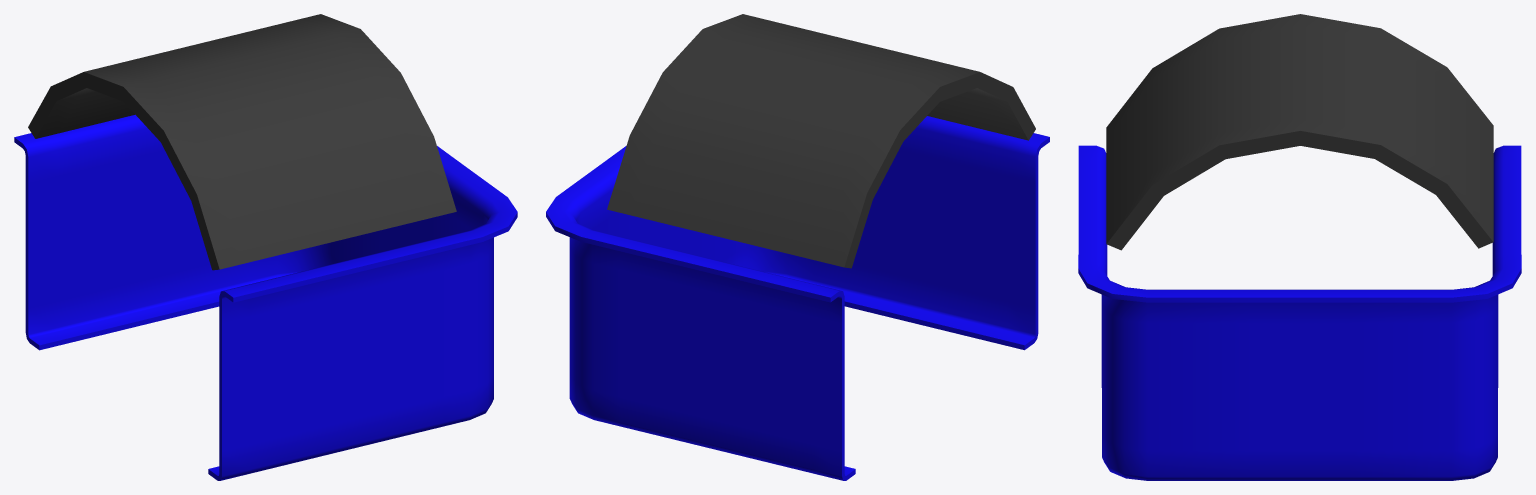
File: SM_PlasticRamp_End.FBX
The picture shows the model from 3 angles, left to right: view 1: azimuth 30°, elevation 25°; view 2: azimuth 150°, elevation 25°; view 3: azimuth 270°, elevation 25°; orthographic projection.
Parts seen in each view (by area): view 1: SM_PlasticRamp_End; view 2: SM_PlasticRamp_End; view 3: SM_PlasticRamp_End.
Part boxes in pixels (x1,y1,x2,y2): SM_PlasticRamp_End: (14,14,517,480); SM_PlasticRamp_End: (546,14,1049,480); SM_PlasticRamp_End: (1078,14,1521,480).
Size of the model in its own units: 130 by 160 by 131.
